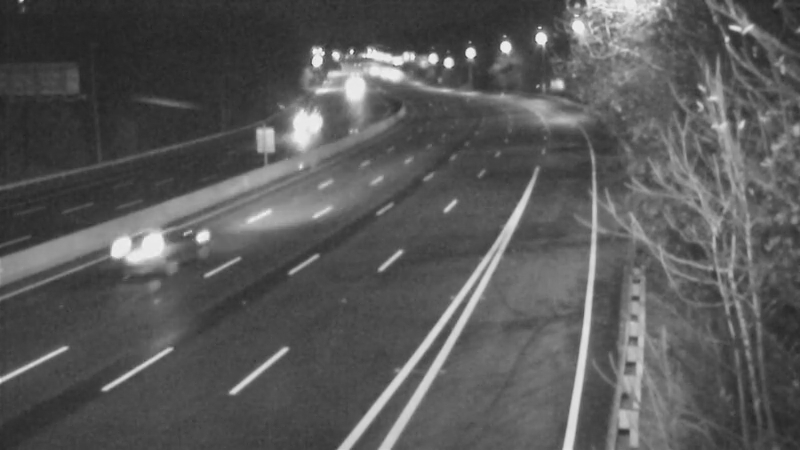vehicle: (98, 215, 178, 295), (280, 104, 330, 154), (327, 65, 377, 115)
